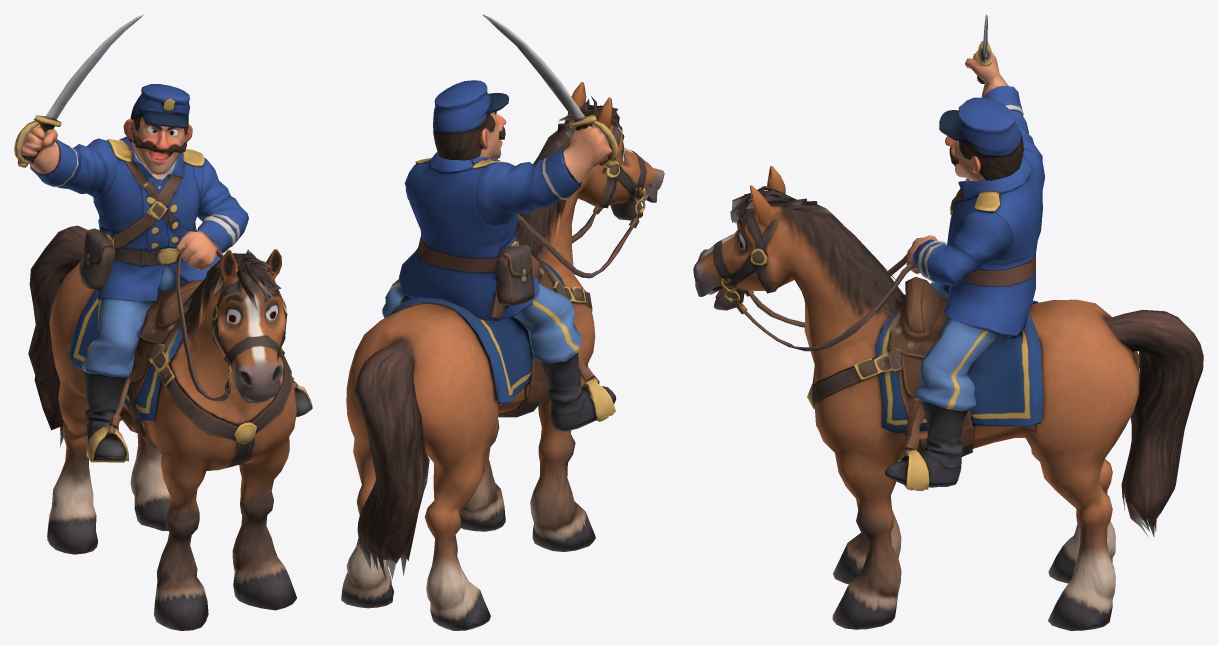
The model's file is u_cav.glb.
The picture shows the model from 3 angles, left to right: view 1: azimuth 30°, elevation 25°; view 2: azimuth 150°, elevation 25°; view 3: azimuth 270°, elevation 25°; orthographic projection. The views are drawn at different scales.
Visible parts, largest first — view 1: geometry_0; view 2: geometry_0; view 3: geometry_0.
Boxes of the visible parts, bbox=[...] form: geometry_0: bbox=[14, 14, 312, 630]; geometry_0: bbox=[341, 14, 664, 630]; geometry_0: bbox=[693, 14, 1203, 630].
Bounding box in the file's own units: 0.4663 × 0.9512 × 0.7734.
1 material, 1 textured.
